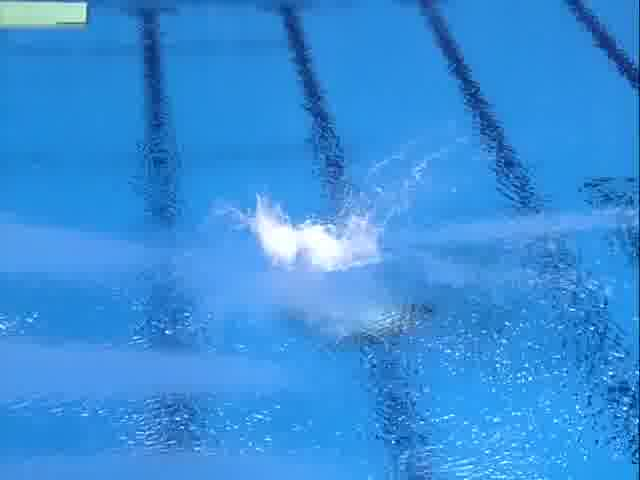core: (295, 214, 336, 255)
periphery: (206, 130, 640, 340)
